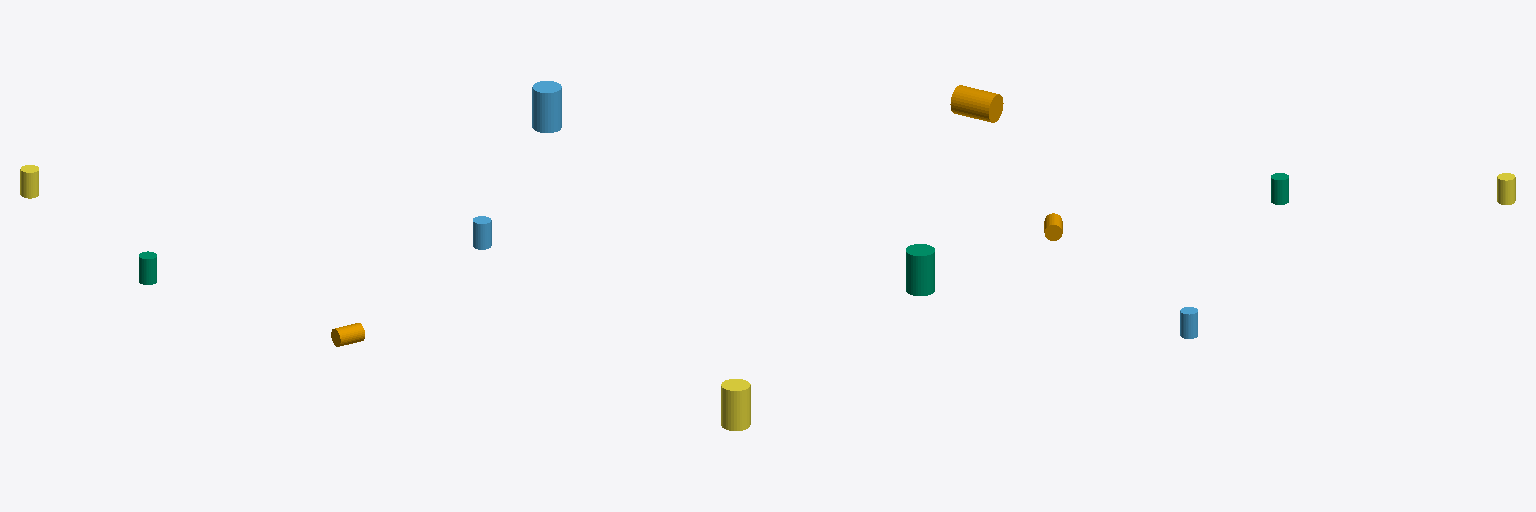
The robot description file, URDF, robot "test_robot":
<robot name="test_robot">
  <link name="base_link">
    <visual>
      <geometry>      
          <cylinder length="0.6" radius="0.2"/>
      </geometry>
      <origin rpy = "0 1.57075 0"/>
    </visual>
  </link>
  <link name="link2">
    <visual>
      <geometry>      
          <cylinder length="0.6" radius="0.2"/>
      </geometry>
    </visual>
  </link>
  <link name="link3">
    <visual>
      <geometry>      
          <cylinder length="0.6" radius="0.2"/>
      </geometry>
    </visual>
  </link>
  <link name="link4">
    <visual>
      <geometry>      
          <cylinder length="0.6" radius="0.2"/>
      </geometry>
    </visual>
  </link>

  <joint name="joint1" type="continuous">
    <parent link="base_link"/>
    <child link="link2"/>
    <origin xyz="5 3 0" rpy="0 0 0" />
    <axis xyz="-0.9 0.15 0" />
  </joint>

  <joint name="joint2" type="continuous">
    <parent link="base_link"/>
    <child link="link3"/>
    <origin xyz="-2 5 0" rpy="0 0 1.57" />
    <axis xyz="-0.707 0.707 0" />
  </joint>

  <joint name="joint3" type="continuous">
    <parent link="link3"/>
    <child link="link4"/>
    <origin xyz="5 0 0" rpy="0 0 -1.57" />
    <axis xyz="0.707 -0.707 0" />
  </joint>
</robot>

--- What the picture shows (computed from the rendered views, not written in the file) ---
The picture shows the robot from 3 angles, left to right: view 1: azimuth 30°, elevation 25°; view 2: azimuth 150°, elevation 25°; view 3: azimuth 270°, elevation 25°; orthographic projection.
Robot: test_robot — 4 links, 3 joints (3 continuous); root link base_link; default pose: all joints at 0.
Links seen in each view (by area): view 1: link2, link4, base_link, link3; view 2: link2, link4, base_link, link3; view 3: link4, link2, link3.
Boxes of the visible links, box(x1,y1,x2,y2) form: link2: box(473, 216, 491, 249); link4: box(20, 165, 38, 198); base_link: box(331, 323, 364, 346); link3: box(139, 251, 156, 284); link2: box(532, 81, 561, 132); link4: box(721, 379, 750, 430); base_link: box(950, 85, 1003, 122); link3: box(906, 244, 934, 295); link4: box(1497, 173, 1515, 204); link2: box(1180, 307, 1197, 338); link3: box(1271, 173, 1288, 204).
Size in the robot's own frame: 7.4 by 10.4 by 0.6 metres.
Geometry: primitives only (box / cylinder / sphere), no mesh files.
